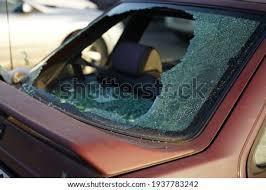Rear-windscreen-Damage: (21, 0, 260, 155)
